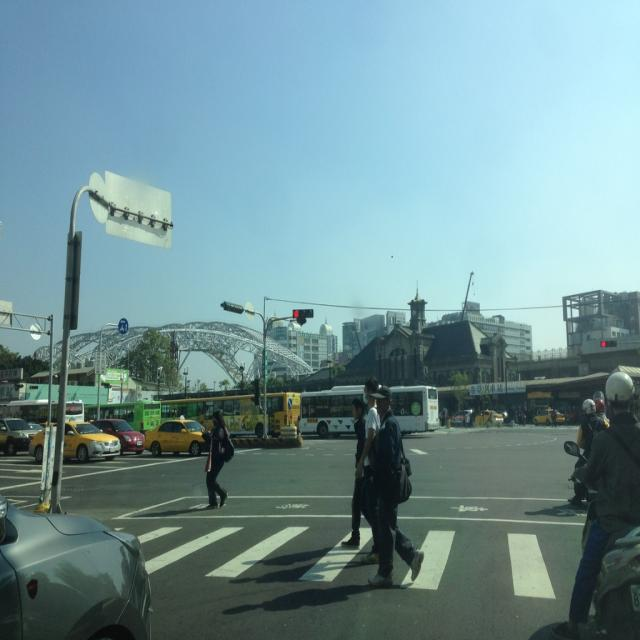traffic light: (292, 309, 314, 318)
